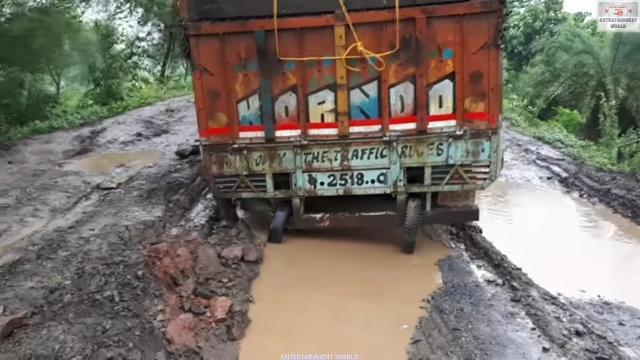truck: (180, 0, 514, 250)
